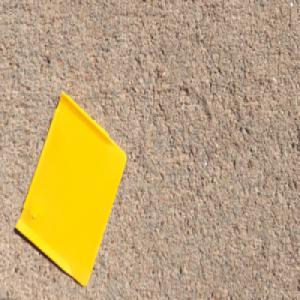PlasticPart: (17, 89, 129, 286)
